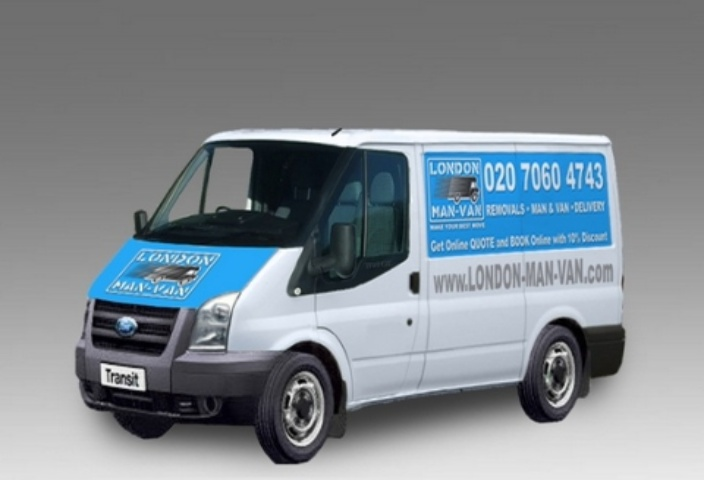van: (54, 109, 644, 456)
